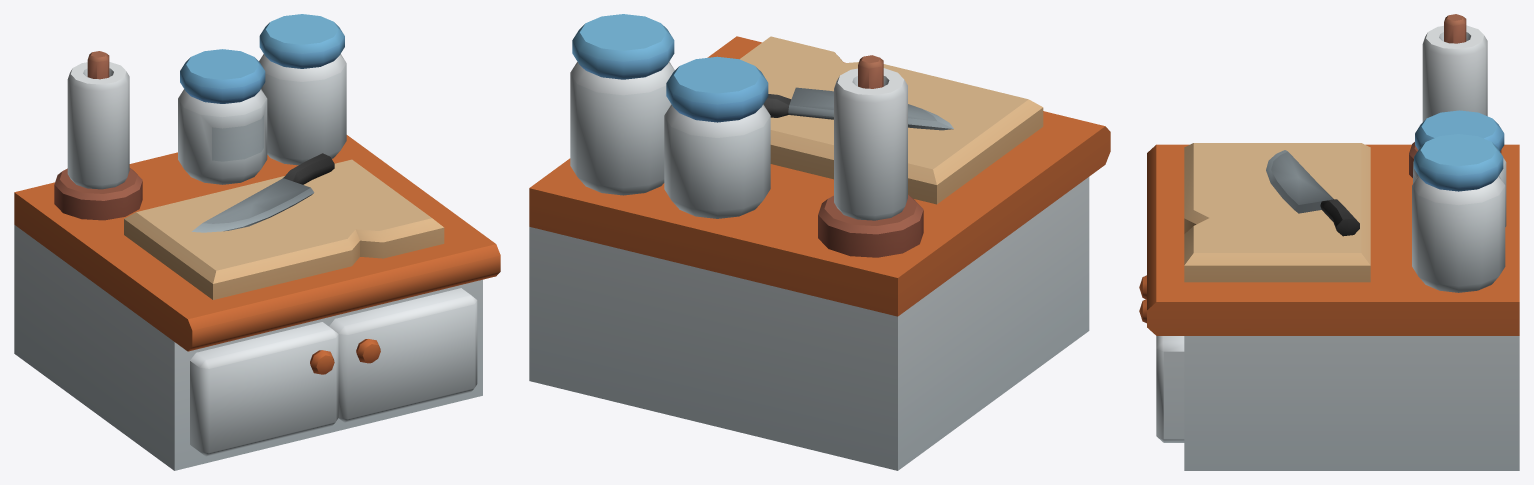
The model's file is kay-kitchencounter_straight_decorated.glb.
3 renders of one model, left to right at view 1: azimuth 30°, elevation 25°; view 2: azimuth 150°, elevation 25°; view 3: azimuth 270°, elevation 25°, orthographic. The views are drawn at different scales.
Visible parts, largest first — view 1: kitchencounter_straight_decorated; view 2: kitchencounter_straight_decorated; view 3: kitchencounter_straight_decorated.
Part boxes in pixels (left/top/right/bottom): kitchencounter_straight_decorated: left=14, top=14, right=500, bottom=470; kitchencounter_straight_decorated: left=529, top=14, right=1110, bottom=470; kitchencounter_straight_decorated: left=1139, top=14, right=1519, bottom=470.
Size of the model in its own units: 1.18 by 1.12 by 1.2.
1 material, 1 textured.
